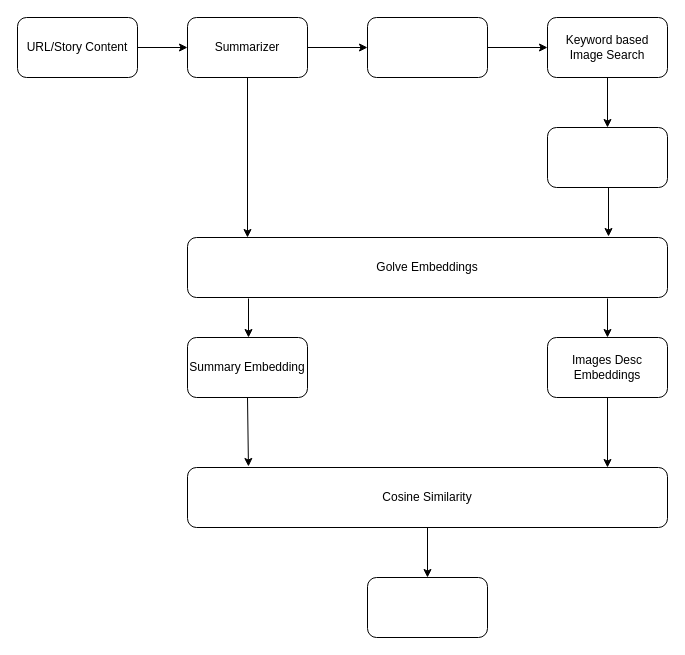
Some shapes in this 685 by 655 pixel diagram are drawn without their labels. Here are the shapes that lost their labels. From the top down, the centre of each, then its label:
At point (427, 47): "Keyword Extractor".
At point (607, 157): "Extract Image meta data (title, desc)".
At point (427, 607): "Top_N_Images".
